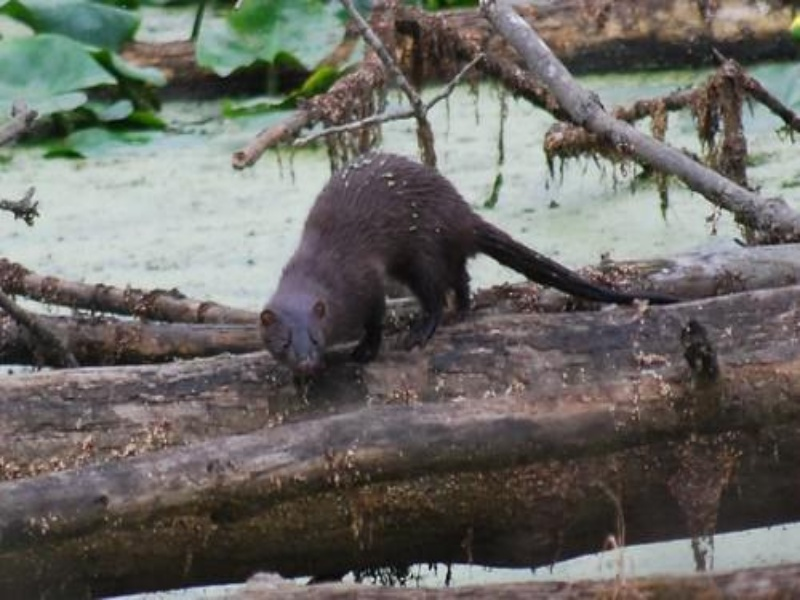minkish: (257, 147, 680, 384)
